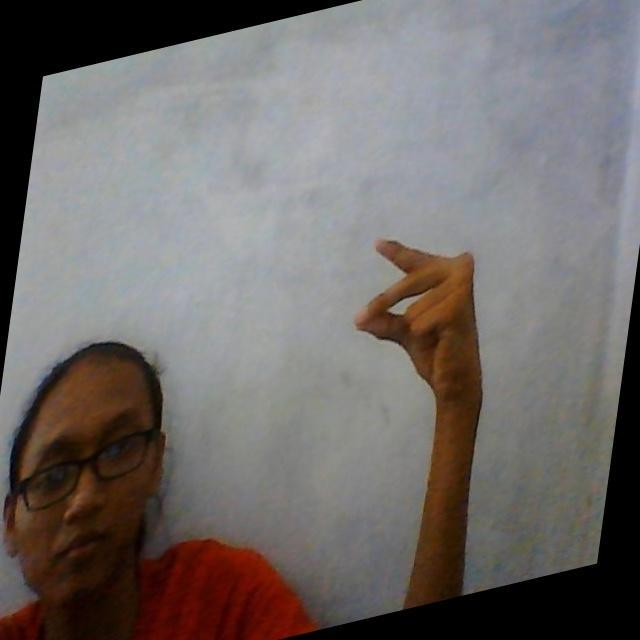R: (338, 212, 526, 468)
